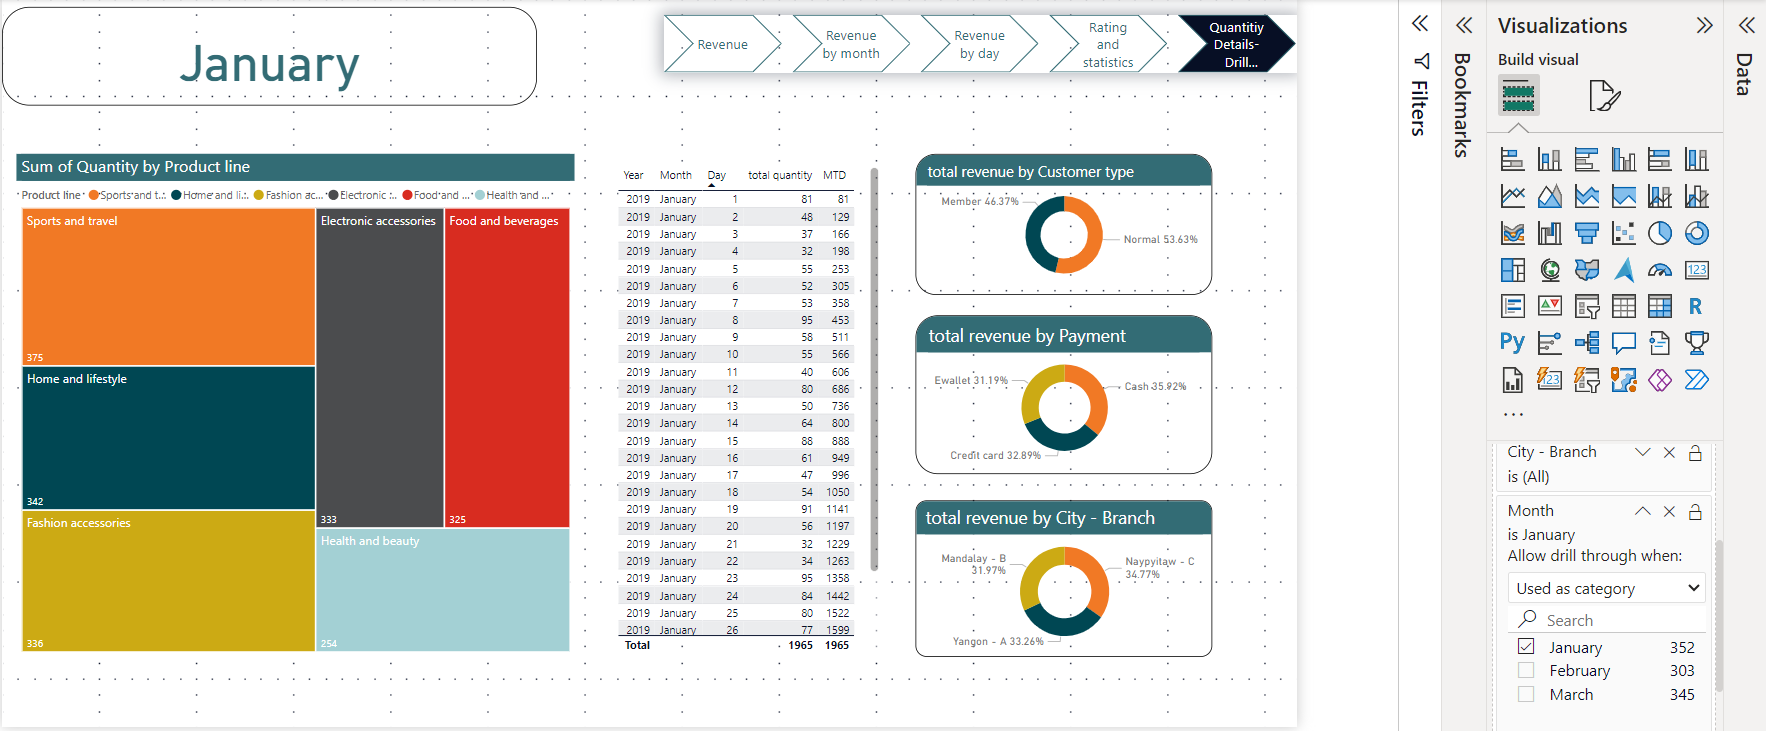

The page's visual inventory and layout, read from the dashboard file:
{"tool":"powerbi","page":{"name":"Quantitiy Details-Drill Through","canvas":[1280,720],"ordinal":4},"visuals":[{"type":"tableEx","fields":{"Values":["DimDate.Date.Variation.Date Hierarchy.Year","DimDate.Month","DimDate.Day","DimDate.total quantity","DimDate.MTD"]},"box":[603.5,160.5,268.4,489.9],"z":0},{"type":"card","fields":{"Values":["Min(SuperMarket Sales Final.Month)"]},"box":[0,7.1,528.6,97.6],"z":1000},{"type":"treemap","fields":{"Group":["SuperMarket Sales Final.Product line"],"Values":["Sum(SuperMarket Sales Final.Quantity)"]},"box":[14.1,153.5,552,496.9],"z":2000},{"type":"donutChart","fields":{"Category":["SuperMarket Sales Final.Payment"],"Y":["DimDate.total revenue"]},"box":[903.5,312.9,293,157],"z":3000},{"type":"donutChart","fields":{"Category":["SuperMarket Sales Final.City - Branch"],"Y":["DimDate.total revenue"]},"box":[903.5,495.7,293,154.7],"z":4000},{"type":"donutChart","fields":{"Category":["SuperMarket Sales Final.Customer type"],"Y":["DimDate.total revenue"]},"box":[903.5,153.5,293,139.5],"z":5000},{"type":"pageNavigator","box":[653.6,15.5,626.2,57.1],"z":6000}]}

Visuals, with their boxes on the page's 1280x720 design canvas (x1, y1, x2, y2). These are canvas units, not pixel positions in the 1766x731 screenshot, which may show the page scaled, cropped or inside an application window:
tableEx - DimDate.Date.Variation.Date Hierarchy.Year x DimDate.Month: Rect(604, 160, 872, 650)
card - Min(SuperMarket Sales Final.Month): Rect(0, 7, 529, 105)
treemap - SuperMarket Sales Final.Product line x Sum(SuperMarket Sales Final.Quantity): Rect(14, 154, 566, 650)
donutChart - SuperMarket Sales Final.Payment x DimDate.total revenue: Rect(904, 313, 1196, 470)
donutChart - SuperMarket Sales Final.City - Branch x DimDate.total revenue: Rect(904, 496, 1196, 650)
donutChart - SuperMarket Sales Final.Customer type x DimDate.total revenue: Rect(904, 154, 1196, 293)
pageNavigator: Rect(654, 16, 1280, 73)
